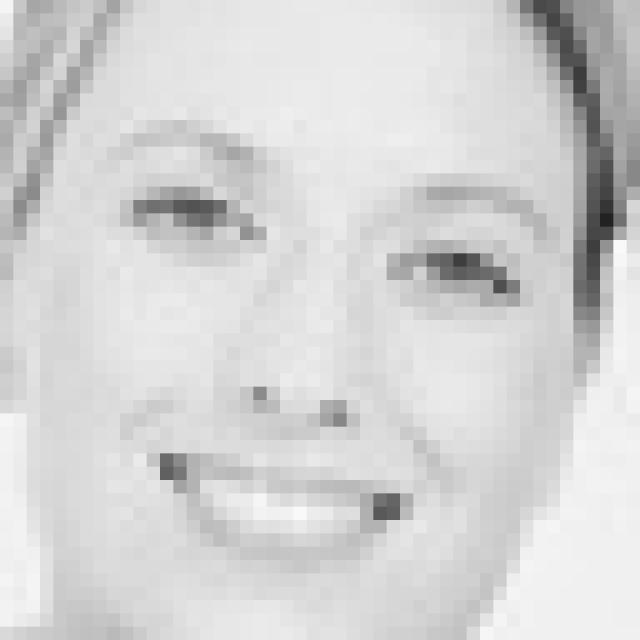happy: (103, 118, 558, 588)
